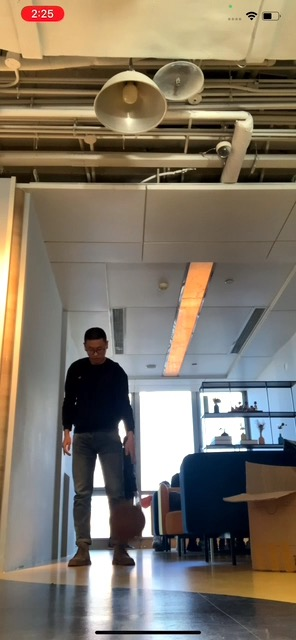ball: (109, 503, 145, 538)
